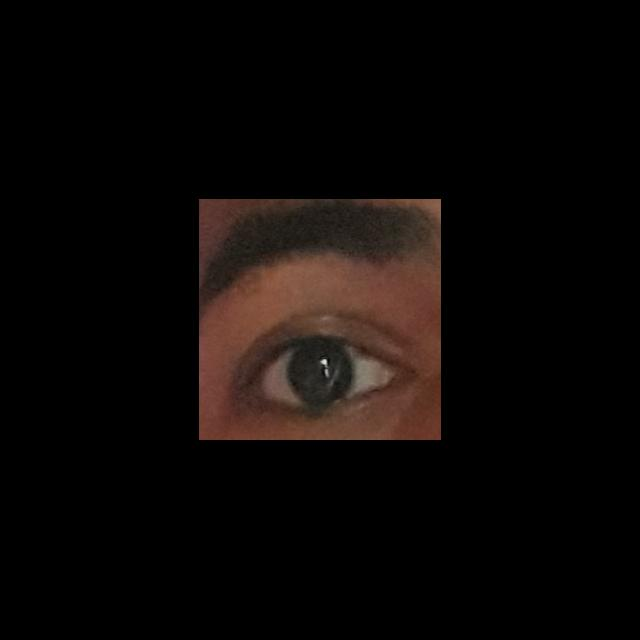eye: (262, 343, 387, 411)
iris: (289, 347, 353, 404)
